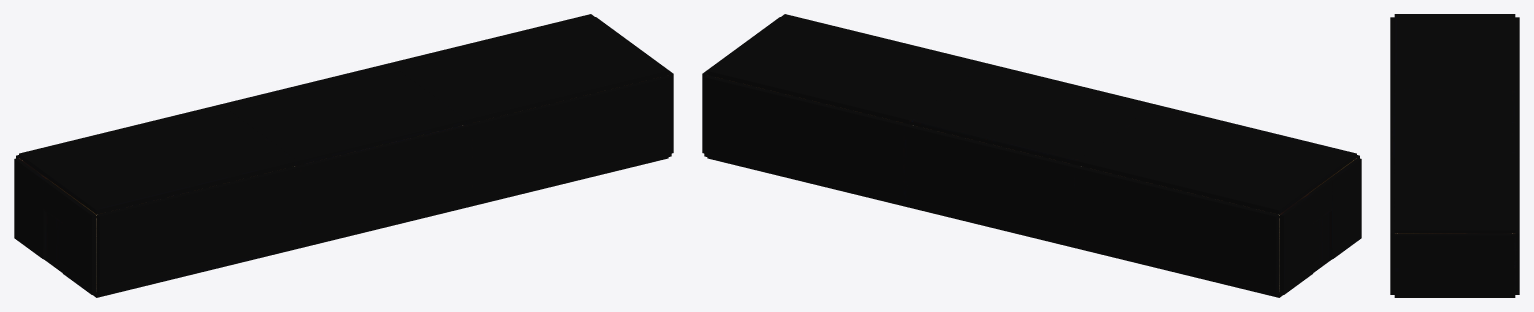
The model's file is obsidian-mobile.glb.
3 renders of one model, left to right at view 1: azimuth 30°, elevation 25°; view 2: azimuth 150°, elevation 25°; view 3: azimuth 270°, elevation 25°, orthographic. The views are drawn at different scales.
Visible parts, largest first — view 1: R1_architecture_baked, R3_architecture_baked, R2_architecture_baked, R1_floor_baked; view 2: R1_architecture_baked, R3_architecture_baked, R2_architecture_baked, R1_floor_baked; view 3: R3_architecture_baked, R1_architecture_baked, R2_architecture_baked, R3_floor_baked.
Boxes of the visible parts, x1,y1,x2,y2 form: R1_architecture_baked: [14, 104, 301, 295]; R3_architecture_baked: [389, 14, 673, 205]; R2_architecture_baked: [221, 63, 469, 246]; R1_floor_baked: [44, 218, 298, 297]; R1_architecture_baked: [1074, 104, 1361, 295]; R3_architecture_baked: [702, 14, 986, 205]; R2_architecture_baked: [906, 63, 1154, 246]; R1_floor_baked: [1077, 218, 1331, 297]; R3_architecture_baked: [1390, 154, 1519, 296]; R1_architecture_baked: [1390, 14, 1519, 93]; R2_architecture_baked: [1390, 90, 1519, 157]; R3_floor_baked: [1394, 296, 1515, 297].
Size of the model in its own units: 34.58 by 4.97 by 8.6.
22 materials, 20 textured.
